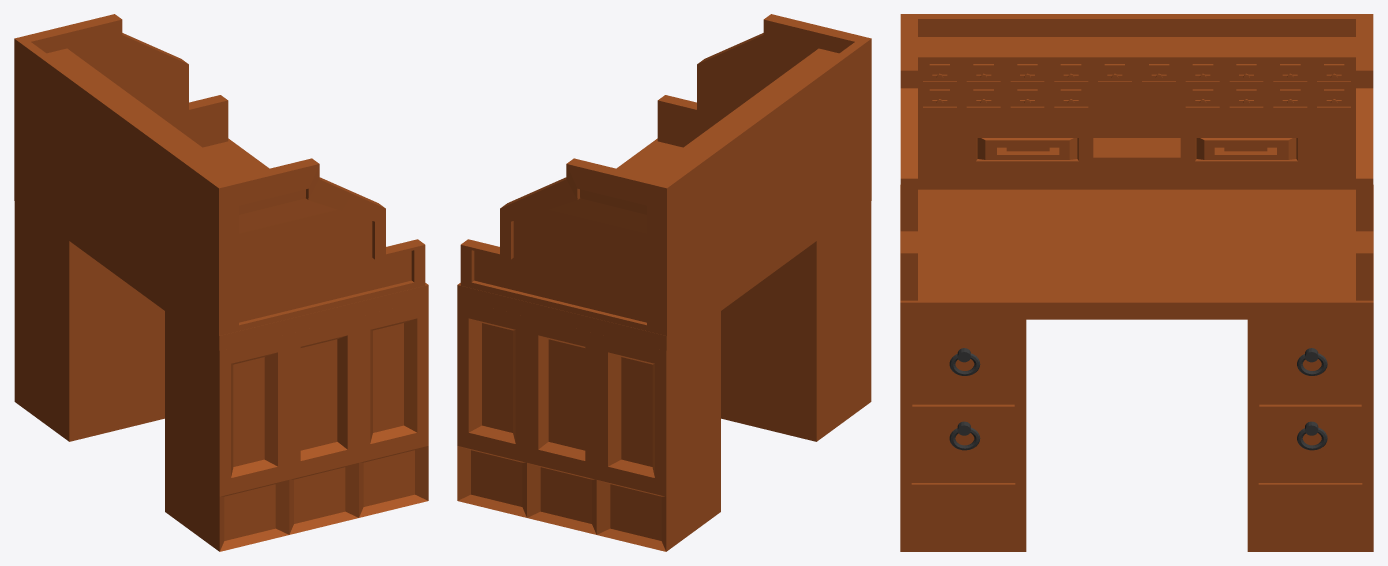
File: Mesafodaepequenacomcor.fbx
3 renders of one model, left to right at view 1: azimuth 30°, elevation 25°; view 2: azimuth 150°, elevation 25°; view 3: azimuth 270°, elevation 25°, orthographic. The views are drawn at different scales.
Visible parts, largest first — view 1: Tabua Princiapl; view 2: Tabua Princiapl; view 3: Tabua Princiapl.
Boxes of the visible parts, left/top/right/bottom form: Tabua Princiapl: left=14, top=14, right=428, bottom=551; Tabua Princiapl: left=457, top=14, right=871, bottom=551; Tabua Princiapl: left=900, top=14, right=1373, bottom=551.
Bounding box in the file's own units: 121 × 197 × 201.
